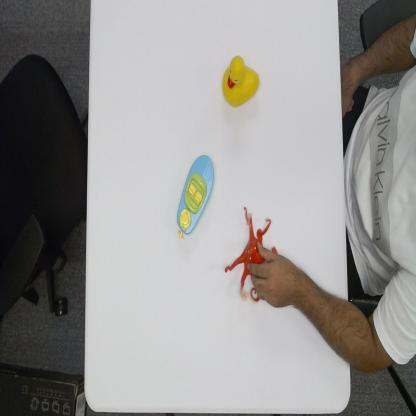Arm: (300, 260, 392, 377)
Boat: (176, 153, 215, 238)
Duck: (220, 55, 260, 108)
Hand: (246, 240, 298, 310)
Octopus: (224, 204, 278, 304)
